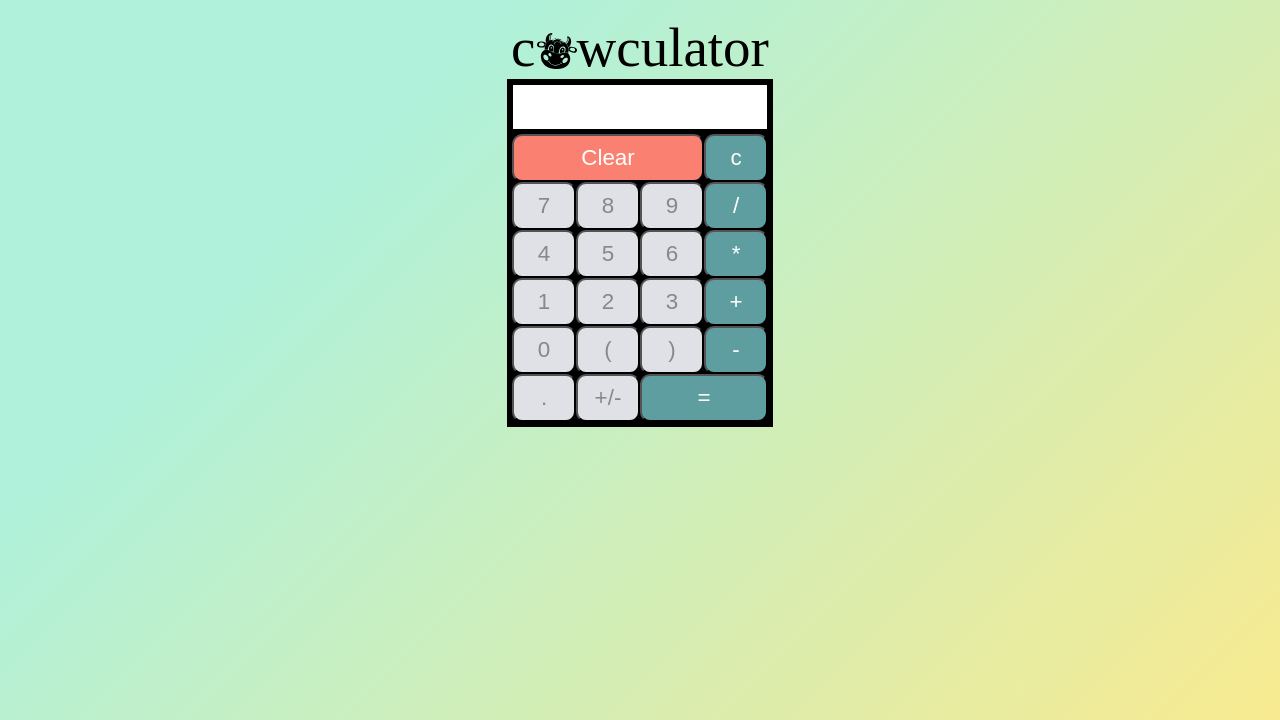
Test case: Calculator › should display an error trying to calculate invalid inputs
Step 1. Click the button named "9" → (672, 206), box [640,182,704,230]
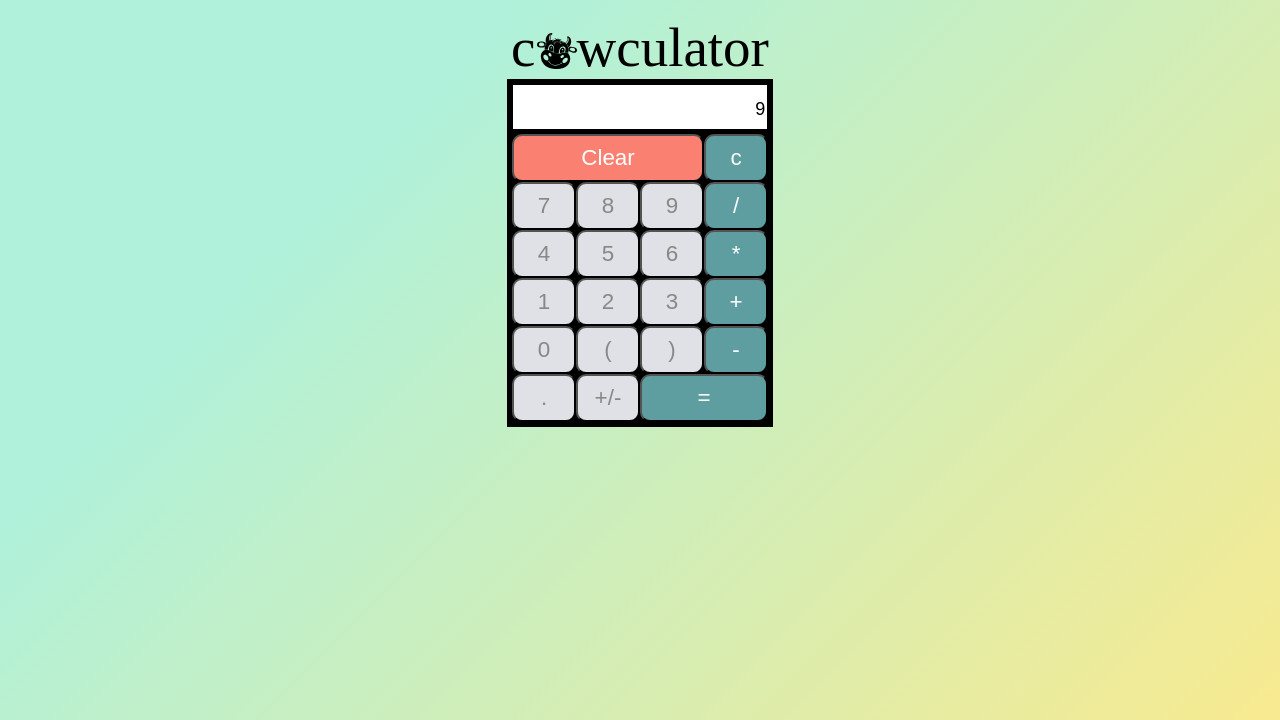
Step 2. Click the button named "*" → (736, 254), box [704,230,768,278]
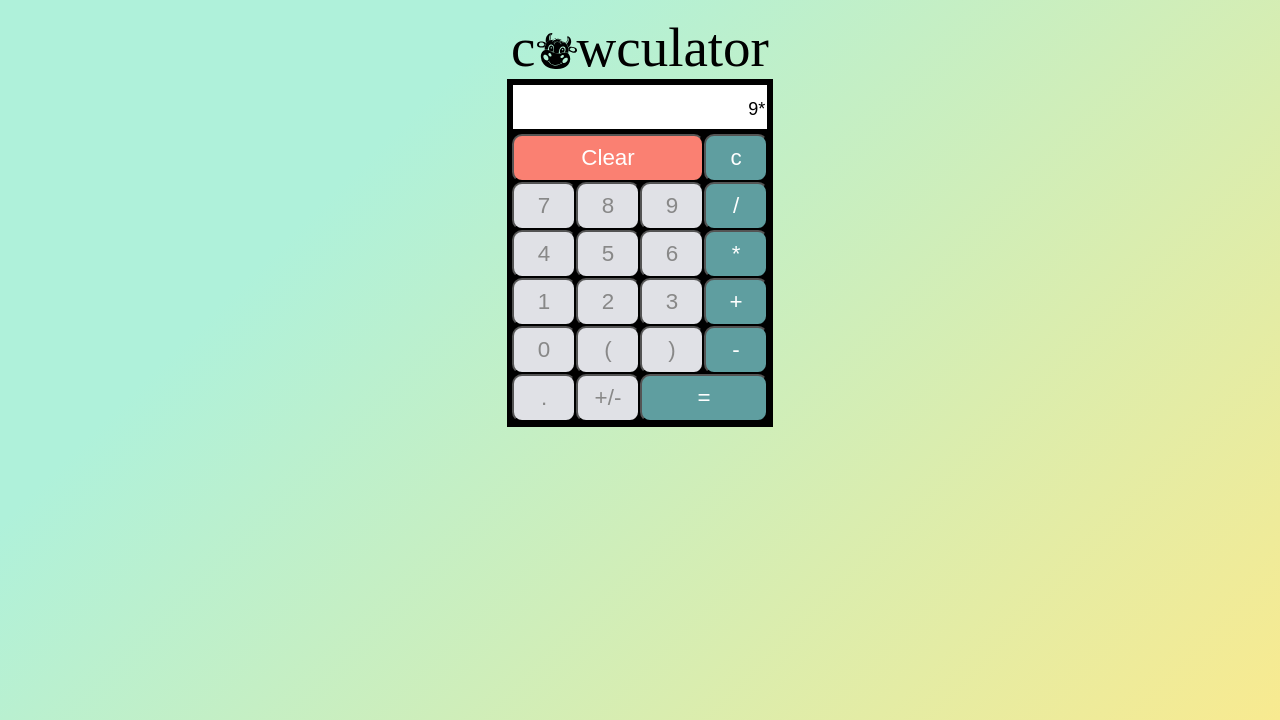
Step 3. Click the button named "/" → (736, 206), box [704,182,768,230]
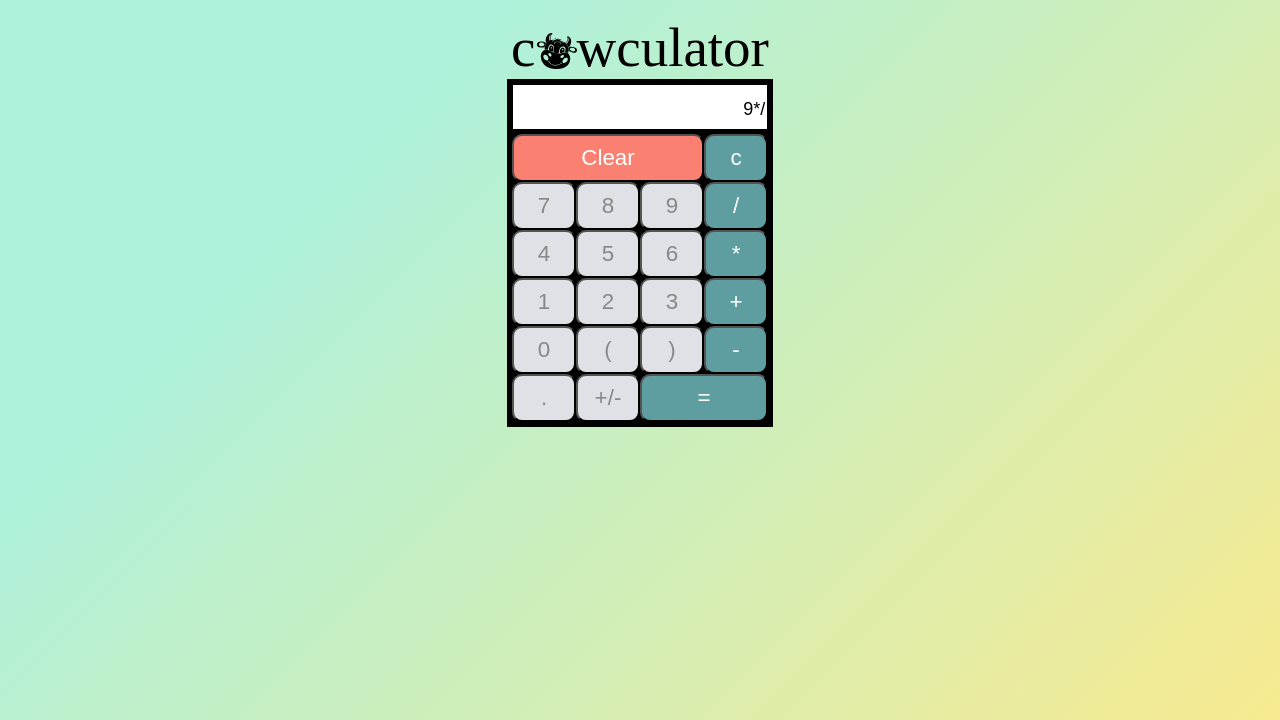
Step 4. Click the button named "6" → (672, 254), box [640,230,704,278]
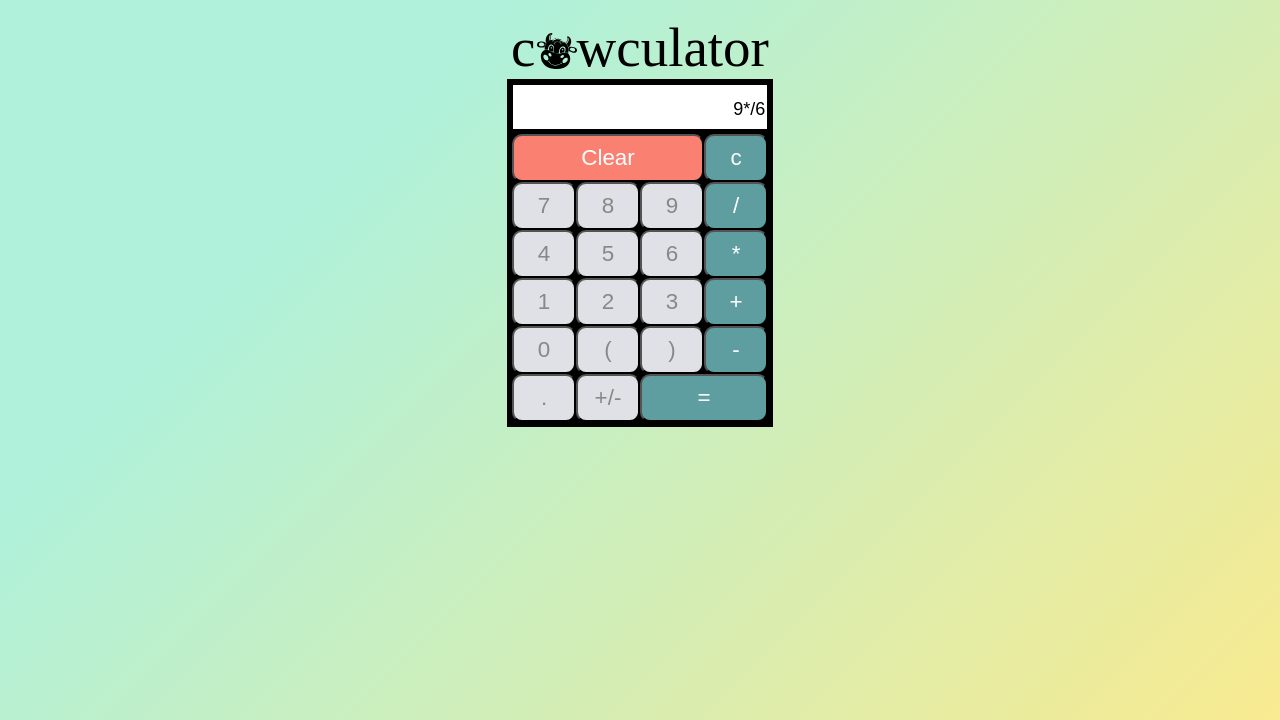
Step 5. Click the button named "=" → (704, 398), box [640,374,768,422]
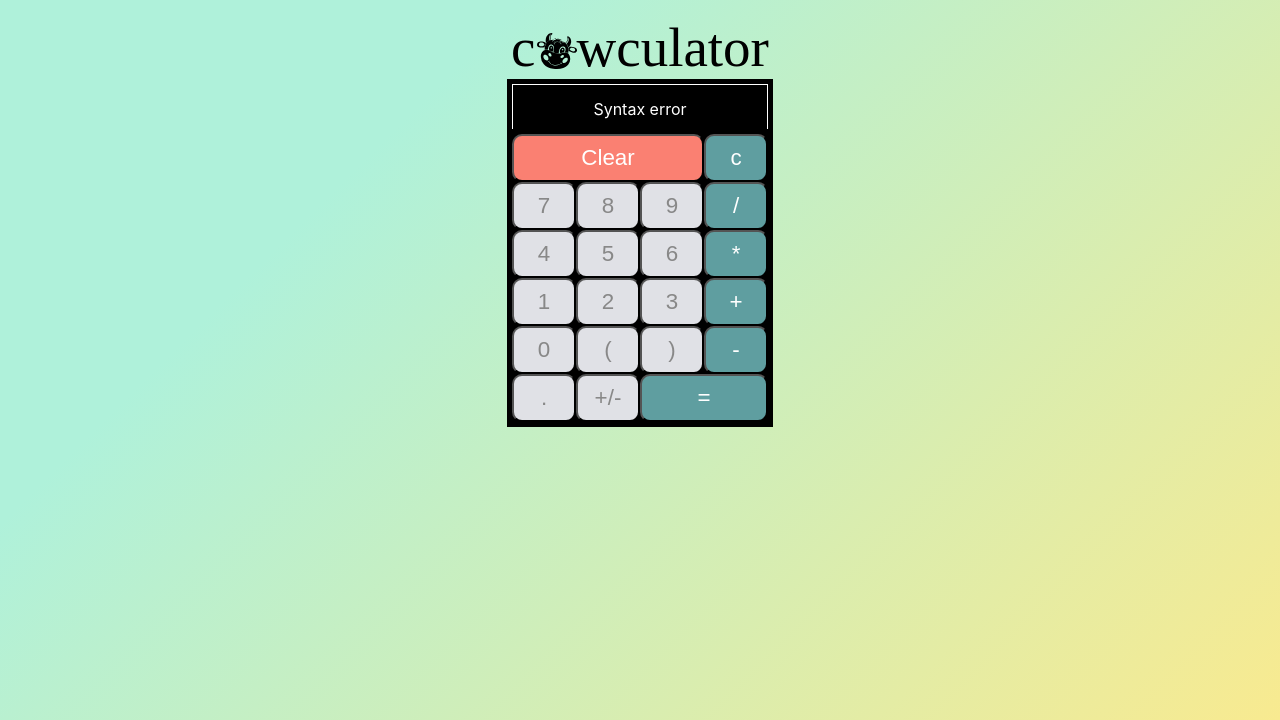
Now the text with class "error" reads "Syntax error", box [512,84,768,134]
